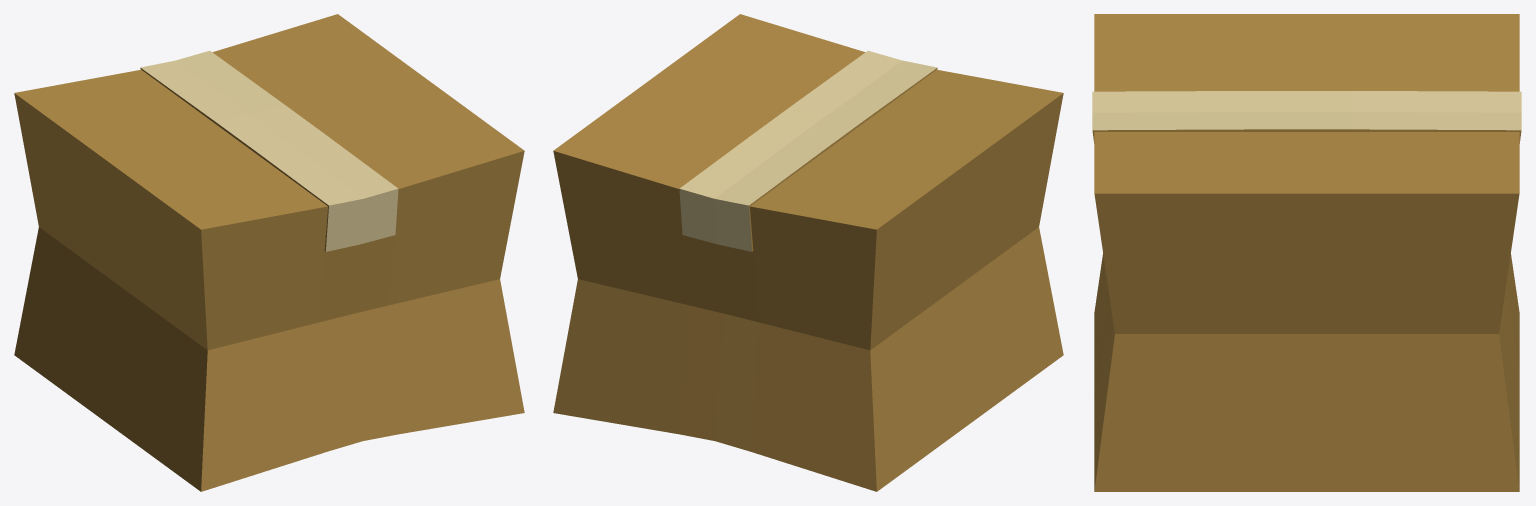
File: CardbordBox.fbx
3 views of the same model, side by side, from view 1: azimuth 30°, elevation 25°; view 2: azimuth 150°, elevation 25°; view 3: azimuth 270°, elevation 25° (orthographic). The views are drawn at different scales.
Visible parts, largest first — view 1: Cube.002; view 2: Cube.002; view 3: Cube.002.
Part boxes in pixels (x1=…): Cube.002: x1=14, y1=14, x2=524, y2=491; Cube.002: x1=553, y1=14, x2=1063, y2=491; Cube.002: x1=1092, y1=14, x2=1521, y2=491.
Size of the model in its own units: 963 by 746 by 972.
